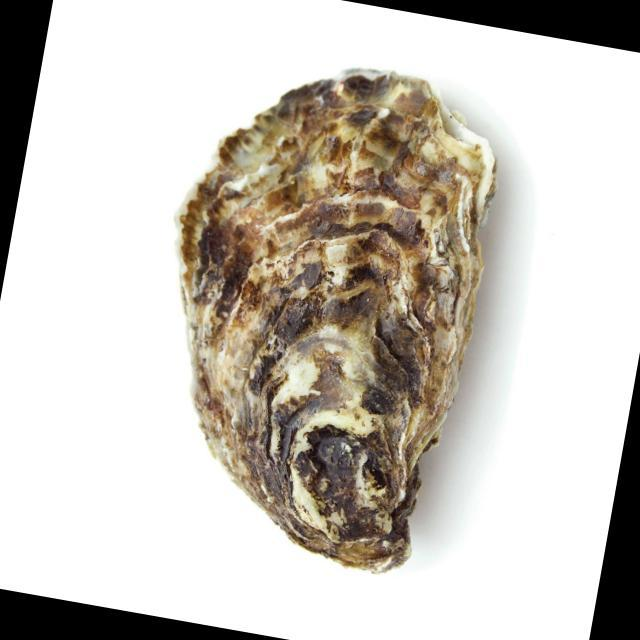Oyster- Indeterminate: (181, 71, 495, 571)
